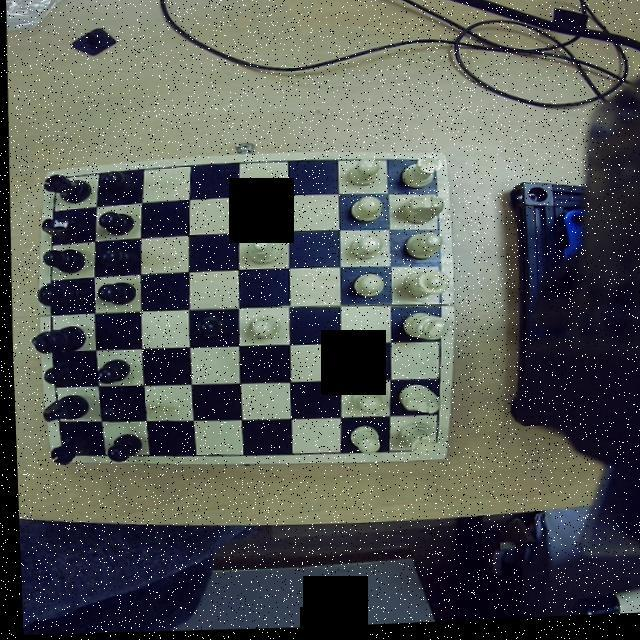chess-table-corners: (417, 156, 443, 178), (421, 438, 444, 461), (48, 446, 76, 462), (44, 173, 66, 192)
